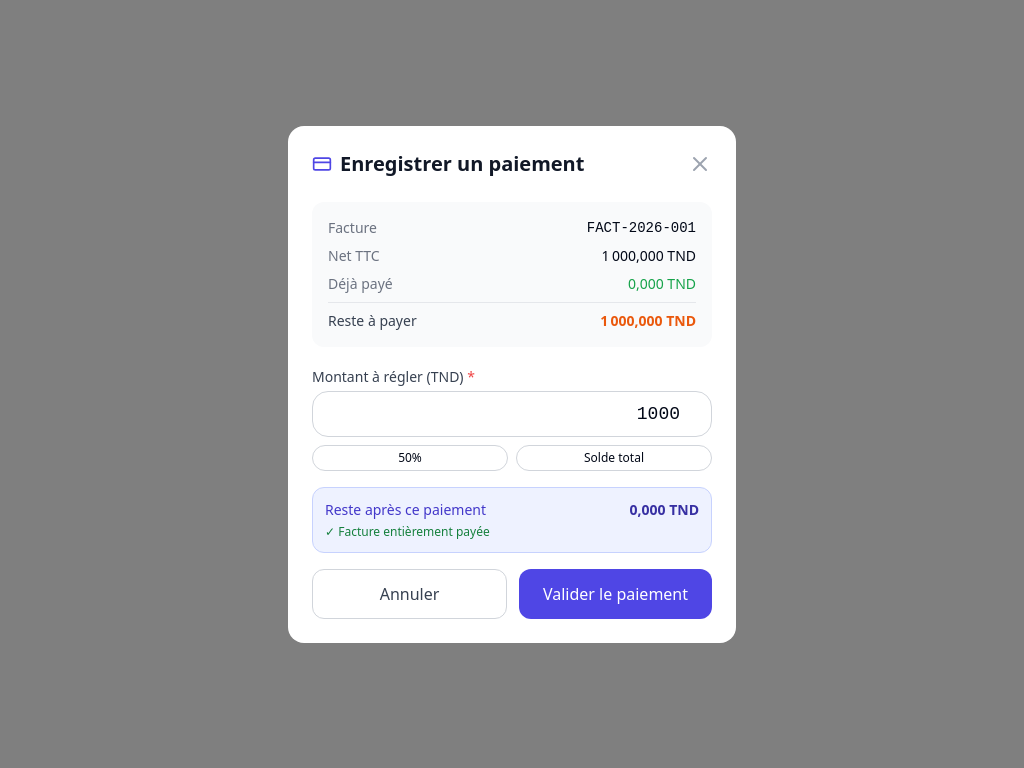
PaymentModal › should show validation error for invalid amount
Replace the text in the number field with "0" at (512, 414), box [312,390,712,436]
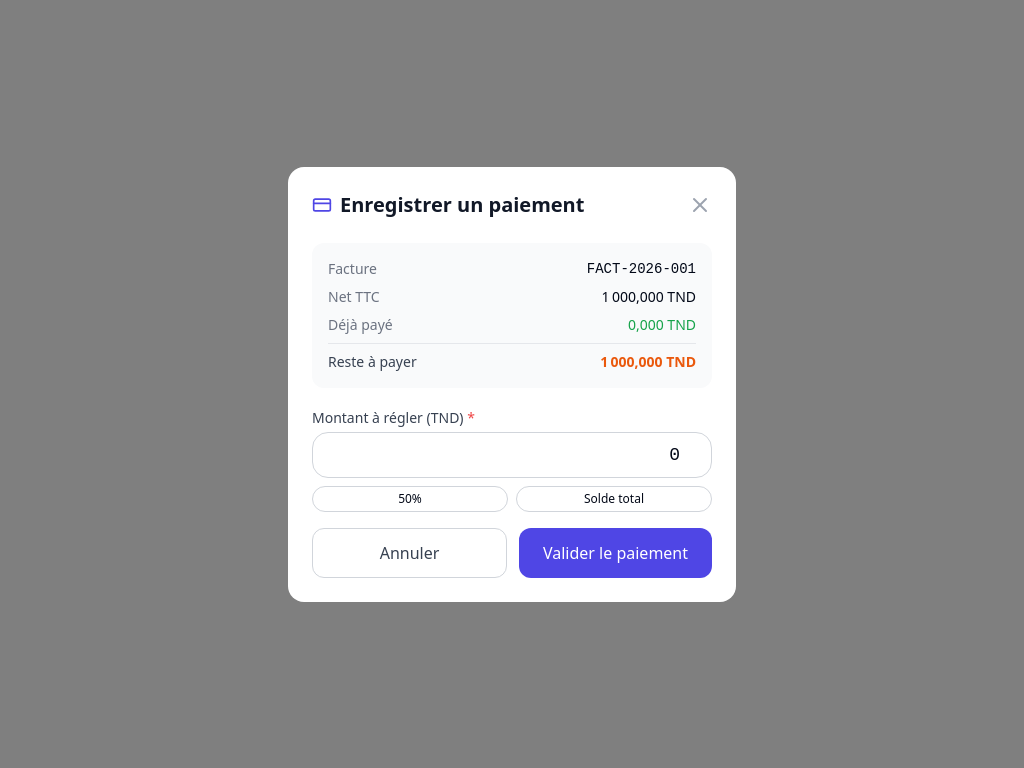
Click the button "Valider le paiement" at (616, 552), box [519,528,712,578]
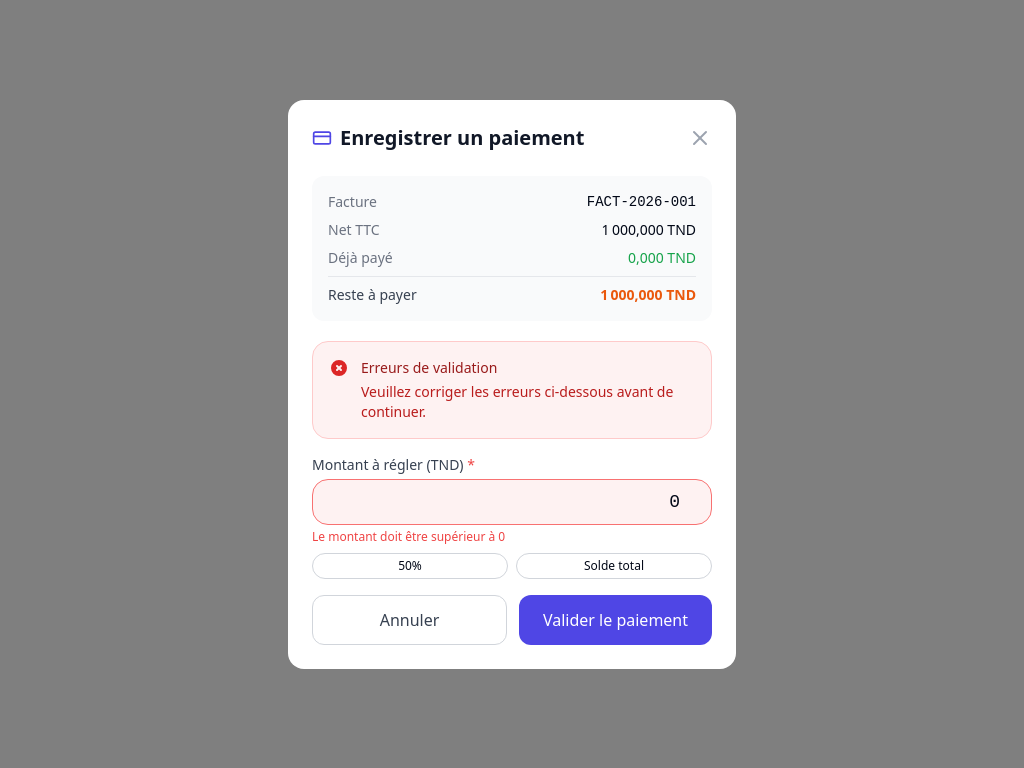
Check: the heading "Erreurs de validation" is shown, box [361,358,497,376]
